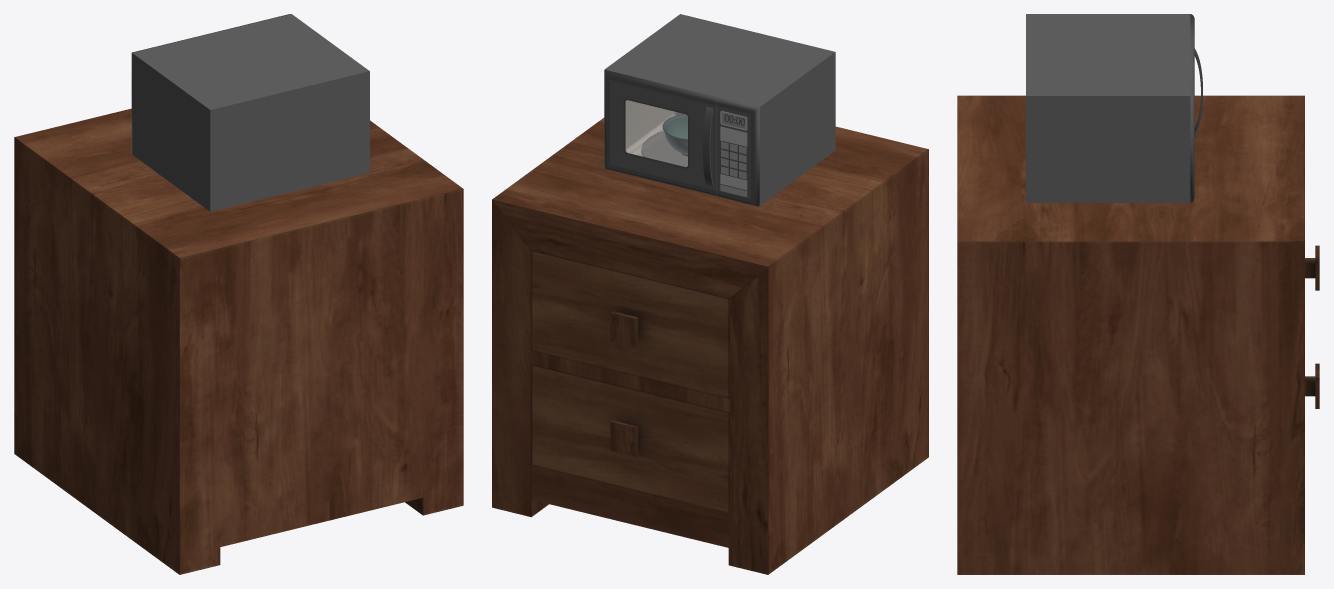
File: Microwave.glb
3 renders of one model, left to right at view 1: azimuth 30°, elevation 25°; view 2: azimuth 150°, elevation 25°; view 3: azimuth 270°, elevation 25°, orthographic. The views are drawn at different scales.
Visible parts, largest first — view 1: Bollard, ID284; view 2: Bollard, ID284, ID235, ID253, group_3, group_6, group_1, group_2, group_4, group_0, ID247; view 3: Bollard, ID284, group_3.
Part boxes in pixels (x1=…): Bollard: x1=14, y1=108, x2=463, y2=574; ID284: x1=132, y1=14, x2=369, y2=211; Bollard: x1=492, y1=117, x2=928, y2=574; ID284: x1=604, y1=14, x2=835, y2=205; ID235: x1=610, y1=80, x2=716, y2=190; ID253: x1=625, y1=100, x2=687, y2=166; group_3: x1=604, y1=70, x2=718, y2=196; group_6: x1=625, y1=100, x2=682, y2=153; group_1: x1=717, y1=97, x2=759, y2=206; group_2: x1=717, y1=106, x2=750, y2=198; group_4: x1=641, y1=131, x2=687, y2=166; group_0: x1=702, y1=106, x2=713, y2=186; ID247: x1=623, y1=98, x2=689, y2=168; Bollard: x1=957, y1=95, x2=1319, y2=574; ID284: x1=1026, y1=14, x2=1190, y2=202; group_3: x1=1190, y1=35, x2=1194, y2=202.
Bounding box in the file's own units: 0.6138 × 0.879 × 0.645.
Materials: 13 (1 with a texture image).
